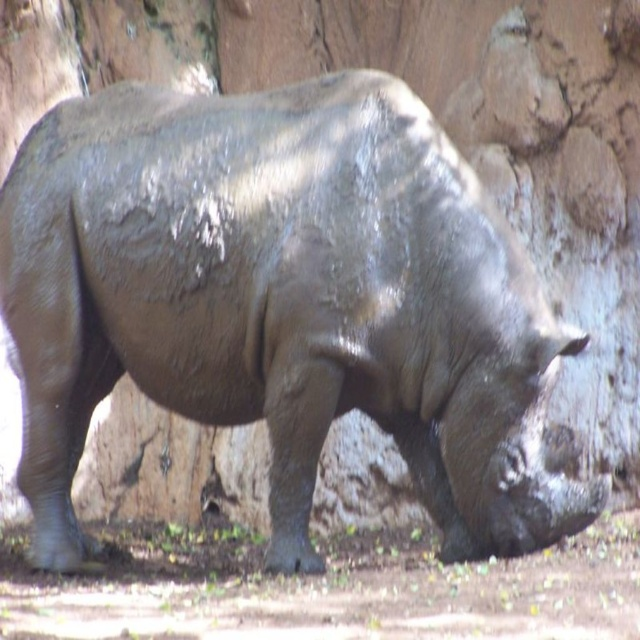Rhinoceros: (0, 62, 616, 588)
